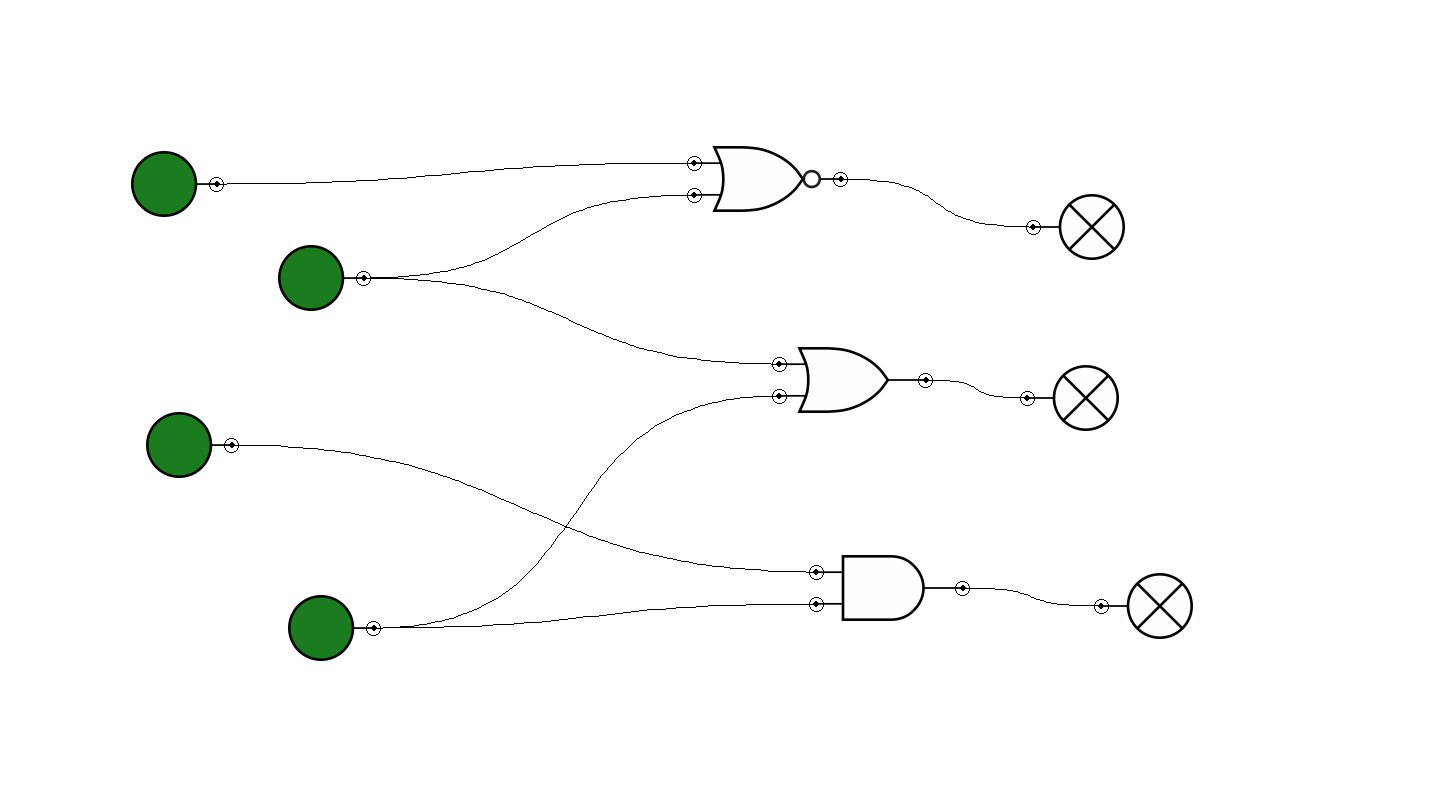and: (809, 555, 970, 621)
bulb: (1094, 573, 1193, 639), (1020, 365, 1119, 431), (1026, 194, 1125, 260)
nor: (687, 146, 848, 212)
or: (772, 347, 933, 413)
switch_True: (288, 595, 381, 661), (146, 412, 239, 478), (278, 245, 371, 311), (131, 151, 224, 217)
